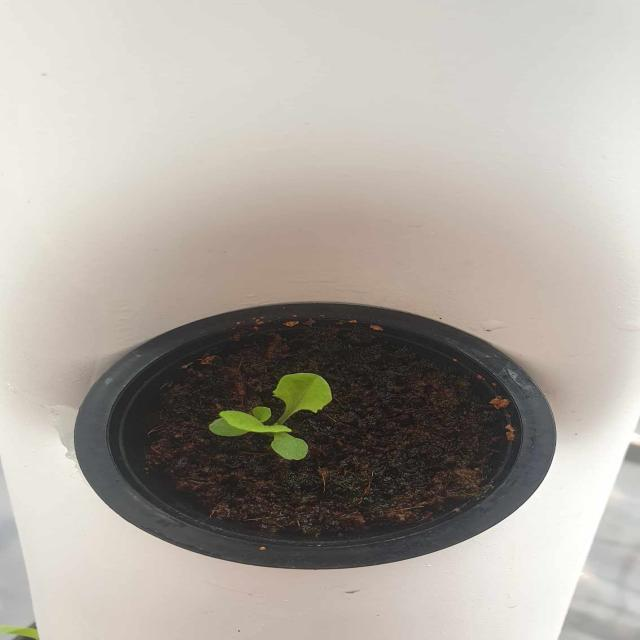Lettuce-Not-Ready-to-Harvest: (202, 372, 338, 470)
